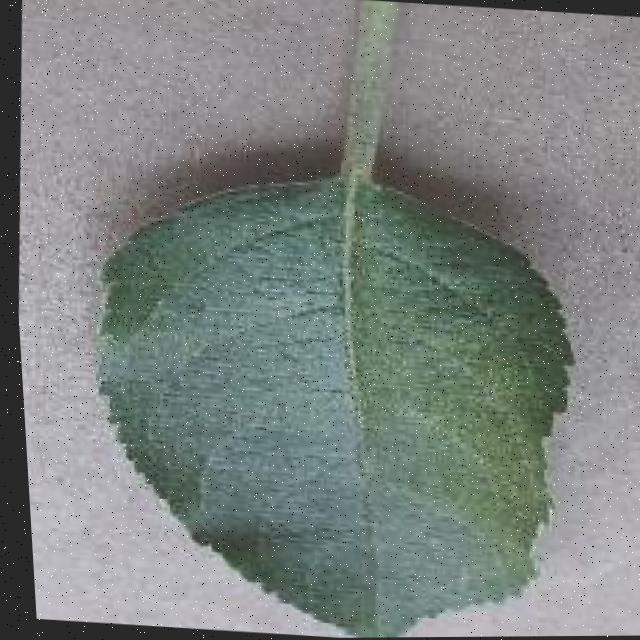healthy: (36, 0, 640, 640)
